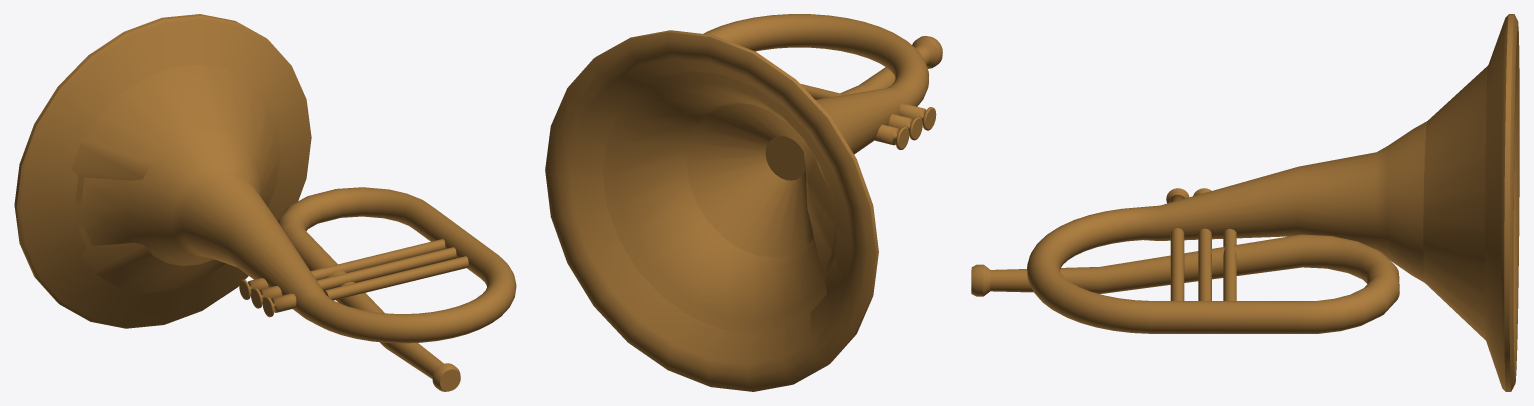
The model's file is Trumpet.FBX.
3 views of the same model, side by side, from view 1: azimuth 30°, elevation 25°; view 2: azimuth 150°, elevation 25°; view 3: azimuth 270°, elevation 25° (orthographic). The views are drawn at different scales.
Visible parts, largest first — view 1: Cylinder01, Cylinder02, Cylinder04, Cylinder03, Cylinder06; view 2: Cylinder01, Cylinder05, Cylinder06, Cylinder07; view 3: Cylinder01, Cylinder02, Cylinder04, Cylinder03.
Part boxes in pixels (box(x1,y1,x2,y2)): Cylinder01: box(14, 14, 516, 391); Cylinder02: box(324, 256, 468, 300); Cylinder04: box(317, 247, 456, 290); Cylinder03: box(310, 239, 445, 280); Cylinder06: box(262, 293, 296, 317); Cylinder01: box(545, 14, 942, 391); Cylinder05: box(874, 124, 909, 149); Cylinder06: box(899, 103, 936, 130); Cylinder07: box(888, 114, 922, 140); Cylinder01: box(971, 14, 1519, 391); Cylinder02: box(1170, 228, 1184, 300); Cylinder04: box(1198, 228, 1211, 300); Cylinder03: box(1223, 229, 1236, 300).
Size of the model in its own units: 61.61 by 55.09 by 79.65.
